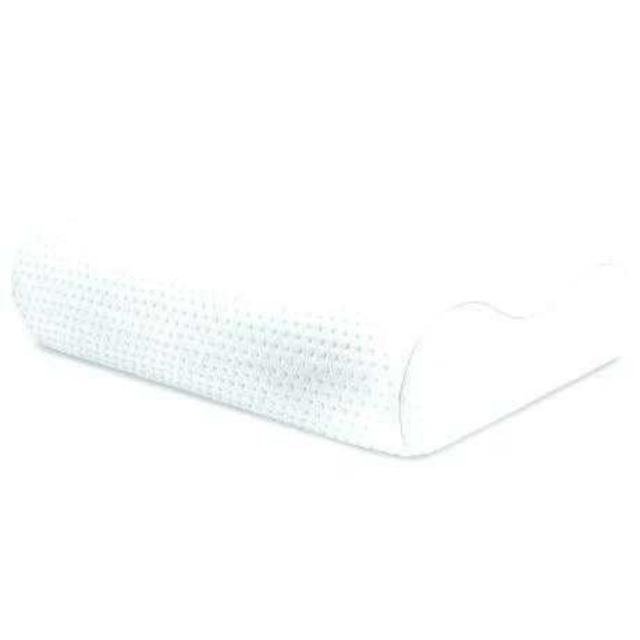pillow: (9, 225, 625, 460)
